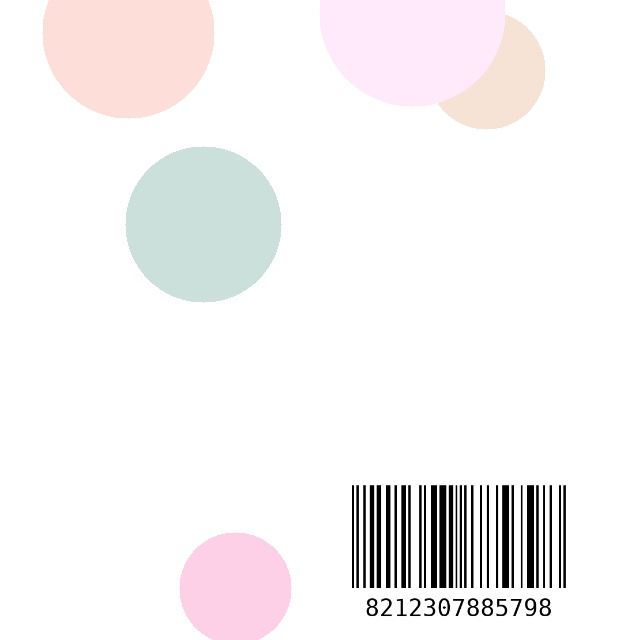barcode: (308, 479, 610, 640)
